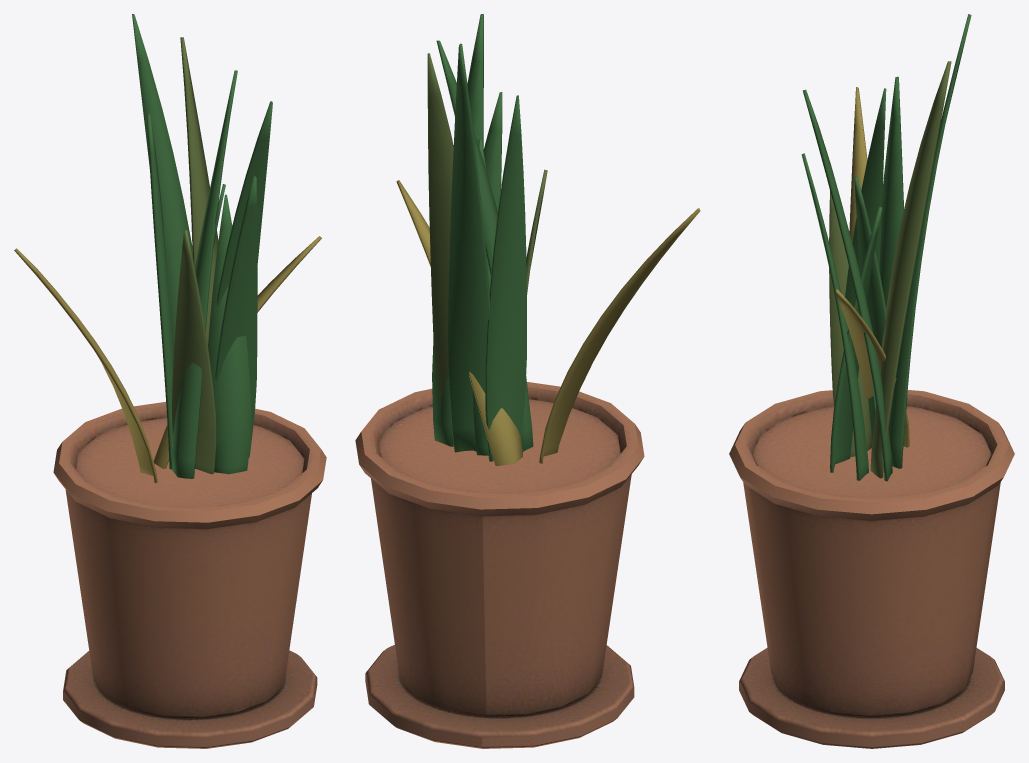
The model's file is plant.glb.
3 renders of one model, left to right at view 1: azimuth 30°, elevation 25°; view 2: azimuth 150°, elevation 25°; view 3: azimuth 270°, elevation 25°, orthographic. The views are drawn at different scales.
Visible parts, largest first — view 1: plant, plant_leaves; view 2: plant, plant_leaves; view 3: plant, plant_leaves.
Part boxes in pixels (bbox=[...]): plant: bbox=[53, 402, 326, 748]; plant_leaves: bbox=[14, 14, 321, 482]; plant: bbox=[355, 382, 644, 748]; plant_leaves: bbox=[396, 14, 700, 465]; plant: bbox=[729, 390, 1014, 748]; plant_leaves: bbox=[801, 14, 971, 481].
Size of the model in its own units: 0.4353 by 0.8969 by 0.344.
Materials: 6 (3 with a texture image).
